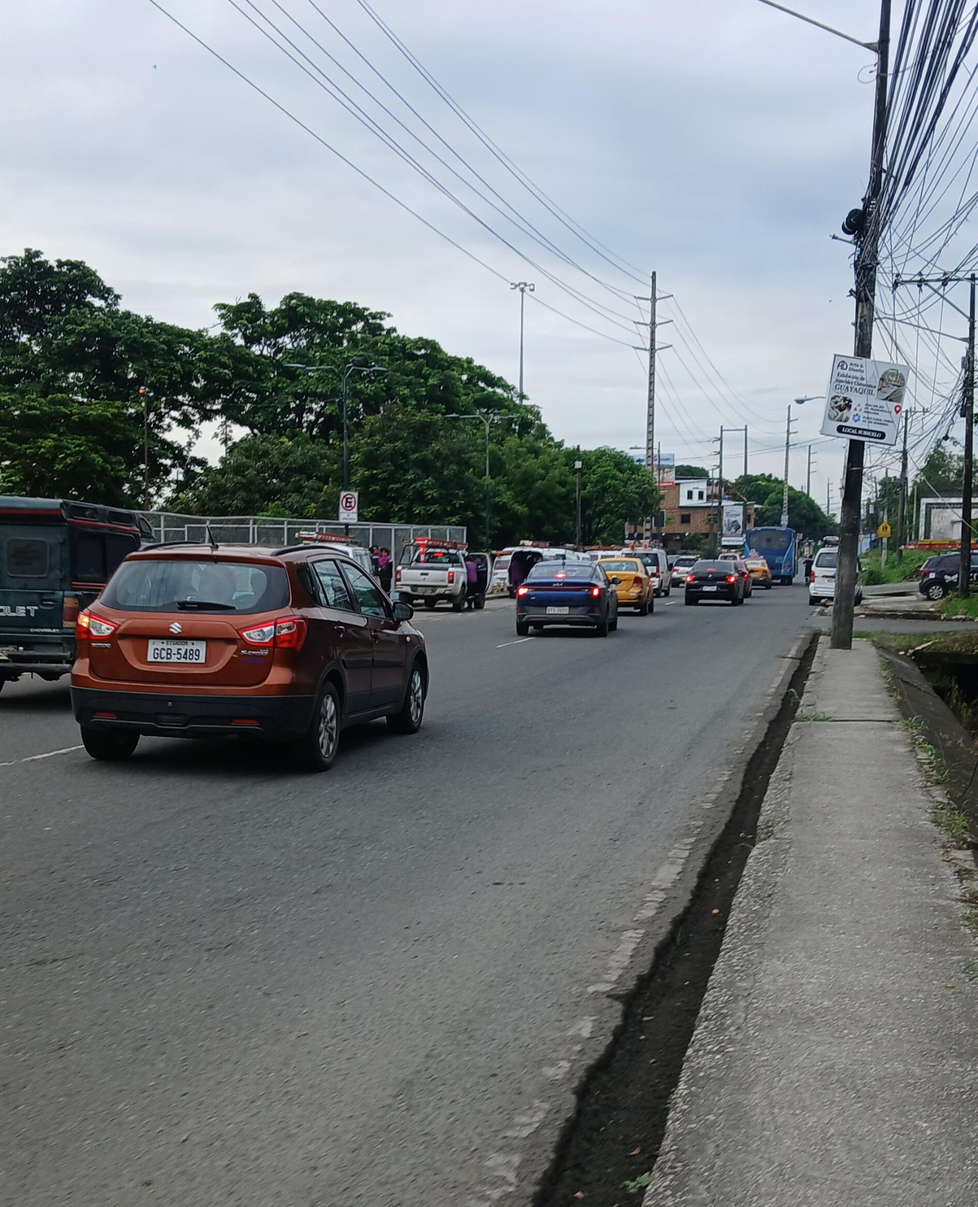license_plate: (146, 639, 206, 663), (545, 606, 570, 614), (416, 587, 434, 594), (699, 585, 717, 591)
